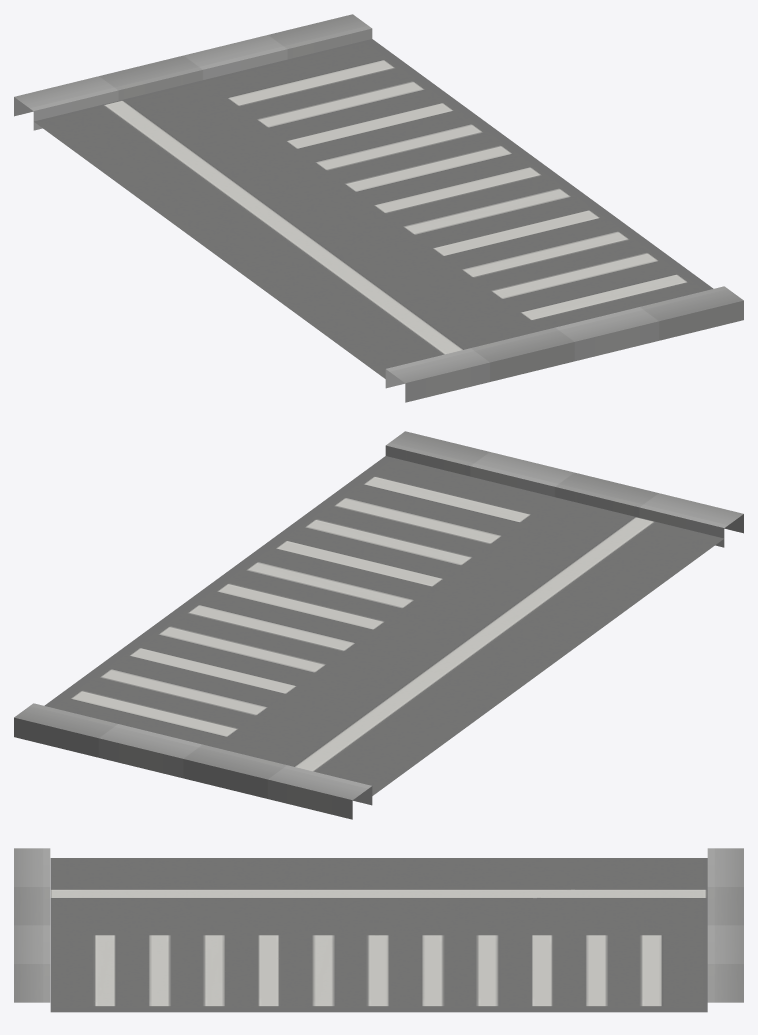
File: Road_C.fbx
The picture shows the model from 3 angles, top to bottom: view 1: azimuth 30°, elevation 25°; view 2: azimuth 150°, elevation 25°; view 3: azimuth 270°, elevation 25°; orthographic projection. The views are drawn at different scales.
Visible parts, largest first — view 1: Road_C; view 2: Road_C; view 3: Road_C.
Boxes of the visible parts, <box> form: Road_C: <box>14,14,743,402</box>; Road_C: <box>14,431,743,819</box>; Road_C: <box>14,848,743,1012</box>.
Bounding box in the file's own units: 1000 × 55.12 × 2000.
